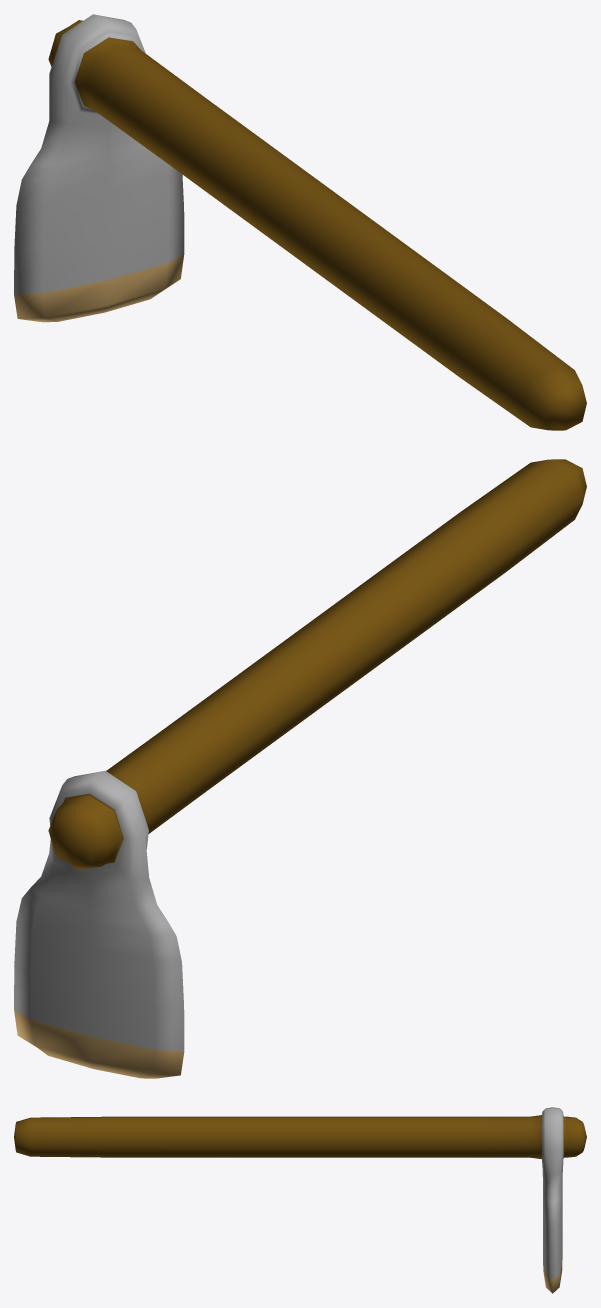
The model's file is hoe 2 (1).fbx.
The picture shows the model from 3 angles, top to bottom: view 1: azimuth 30°, elevation 25°; view 2: azimuth 150°, elevation 25°; view 3: azimuth 270°, elevation 25°; orthographic projection. The views are drawn at different scales.
Visible parts, largest first — view 1: Cube.001; view 2: Cube.001; view 3: Cube.001.
Part boxes in pixels (<box>): Cube.001: <box>14,14,586,430</box>; Cube.001: <box>14,459,586,1078</box>; Cube.001: <box>14,1107,586,1293</box>.
Bounding box in the file's own units: 491 × 811 × 2484.
